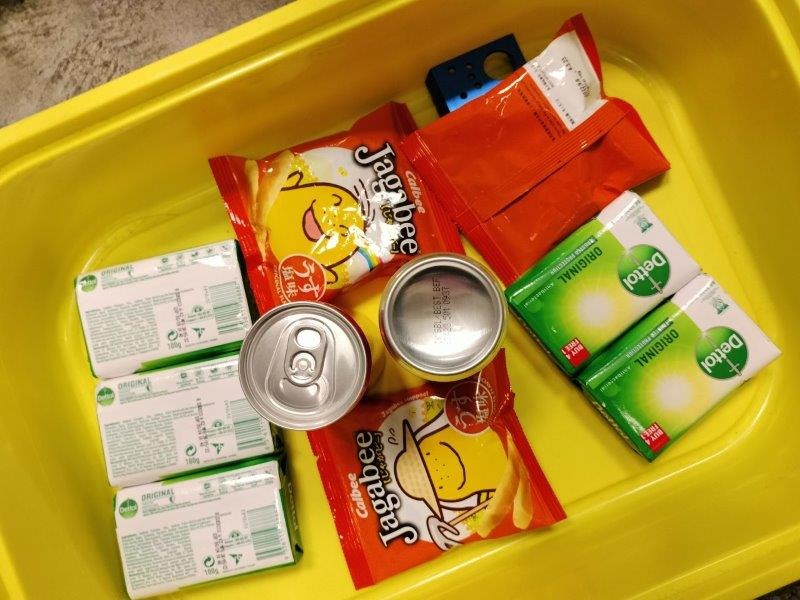Coke: (238, 302, 383, 430), (378, 252, 508, 380)
Dettol: (574, 274, 779, 460), (501, 189, 703, 376), (110, 462, 300, 598), (74, 241, 254, 376), (95, 355, 279, 485)
Jagabee: (397, 17, 672, 291), (301, 353, 571, 586), (208, 103, 471, 314)
